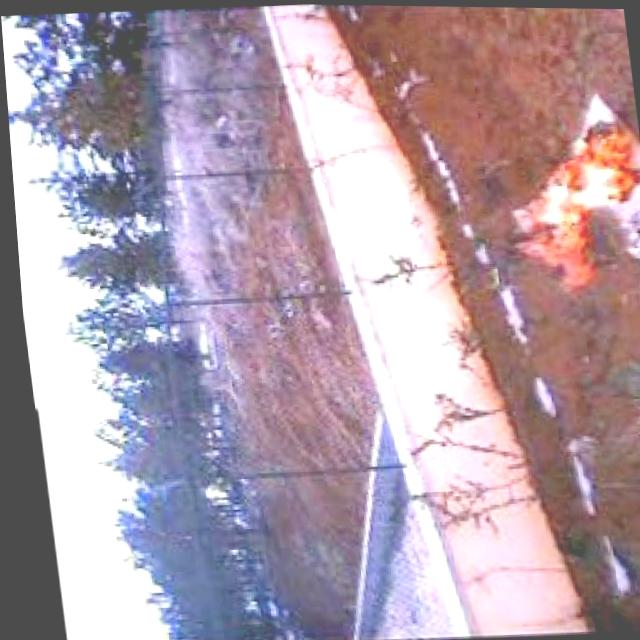Fire: (495, 116, 640, 295)
